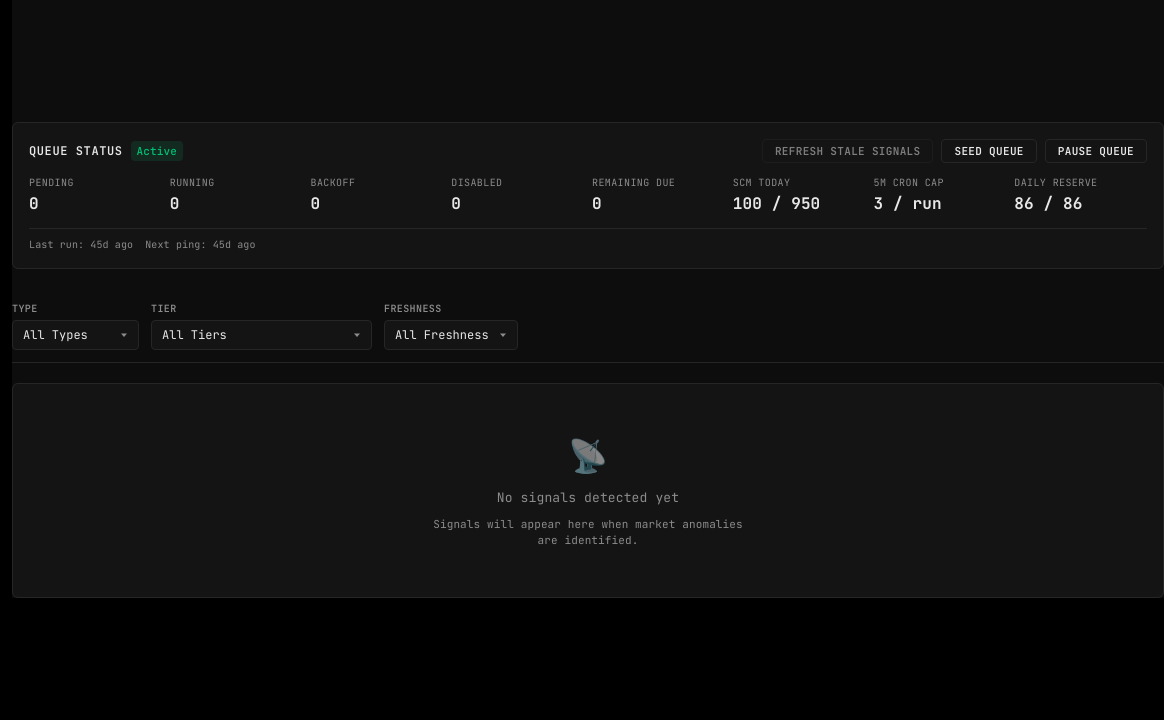
Scenario: IntelligenceDashboard › continues bounded seeding while more catalog entries are available
Click the button with aria-label "Seed intelligence queue" at (989, 151), box [942, 139, 1037, 163]
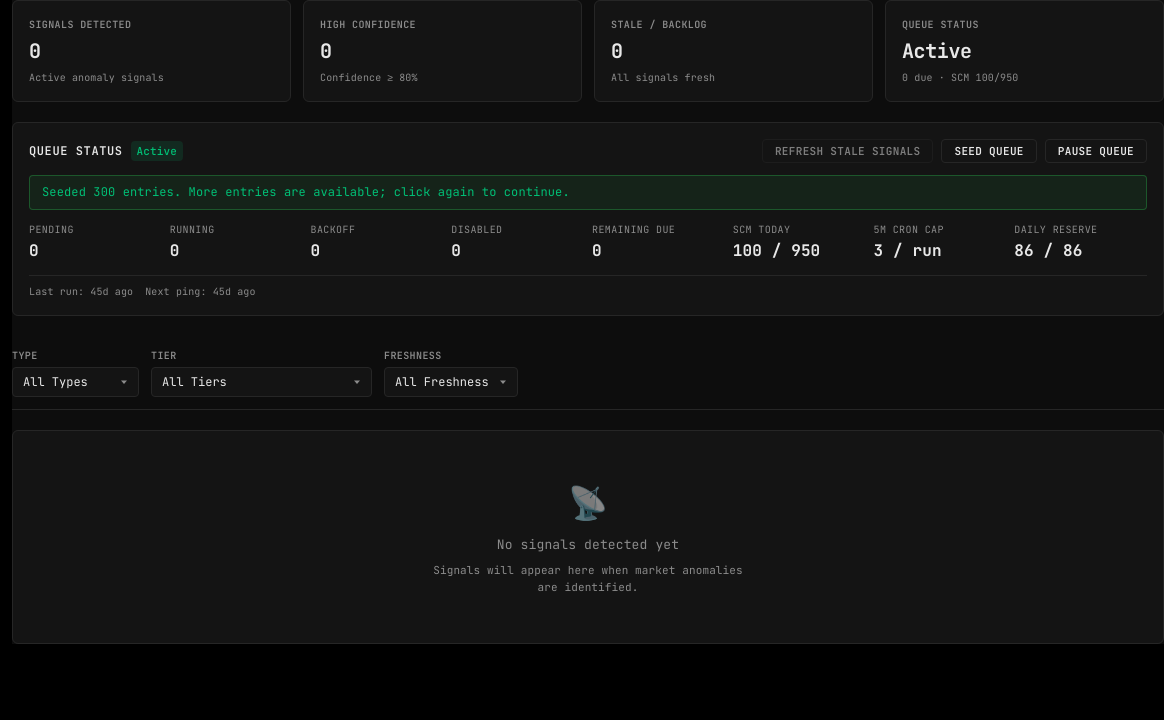
expect the text "Seeded 300 entries. More entries are available; click again to continue." is shown: met, box [29, 175, 1147, 210]
